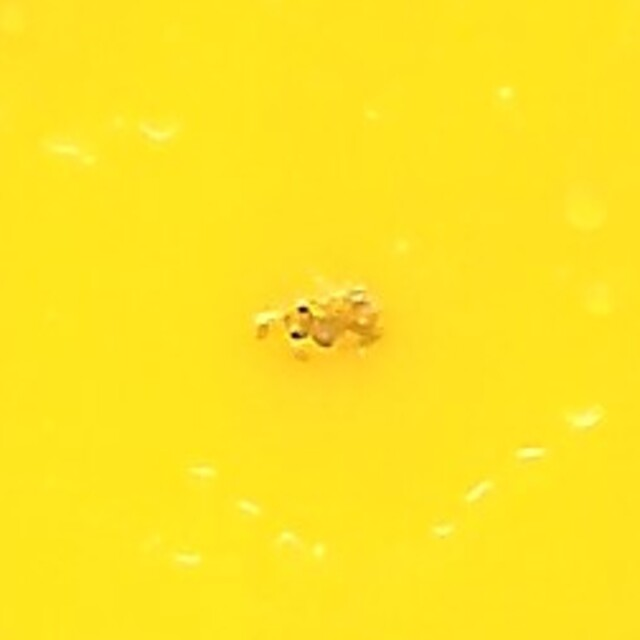Hymenoptera: (254, 282, 386, 358)
